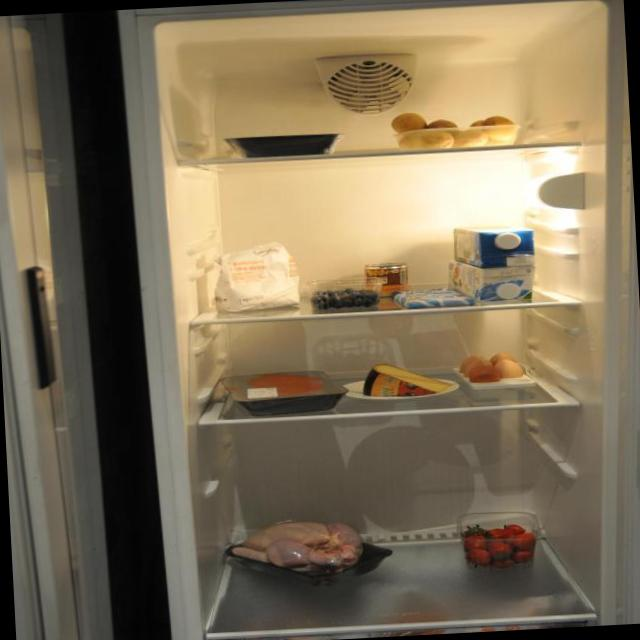Carne pollo: (226, 515, 370, 583)
Carne vacuno: (226, 367, 337, 413)
Huevos: (456, 350, 528, 388)
Leche: (445, 257, 538, 306), (441, 225, 530, 271)
Patata: (388, 105, 522, 153)
Queso: (358, 360, 454, 400)
